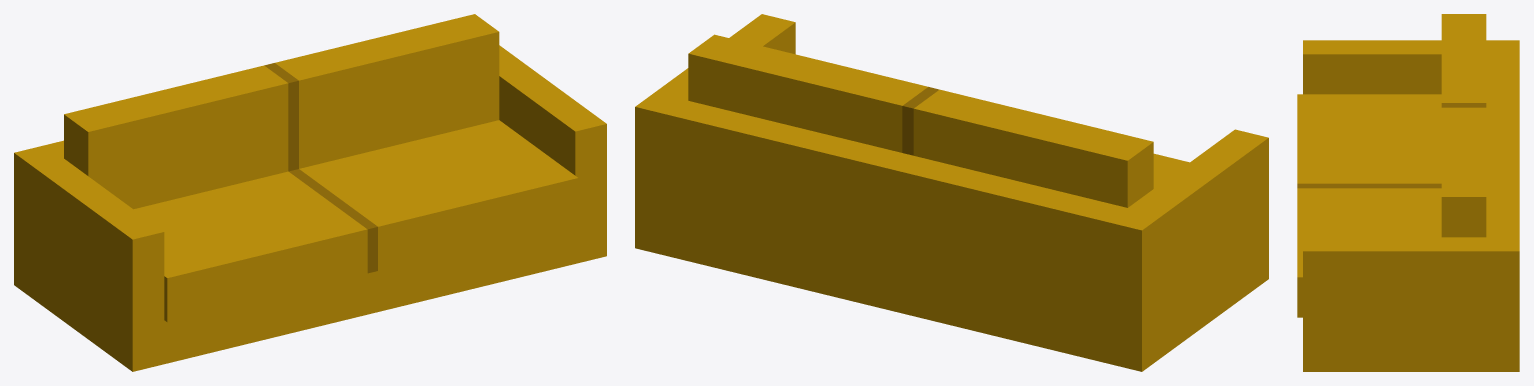
The model's file is couch40.obj.
3 renders of one model, left to right at view 1: azimuth 30°, elevation 25°; view 2: azimuth 150°, elevation 25°; view 3: azimuth 270°, elevation 25°, orthographic. The views are drawn at different scales.
Size of the model in its own units: 9 by 3.2 by 4.
Materials: 1 (1 with a texture image).
